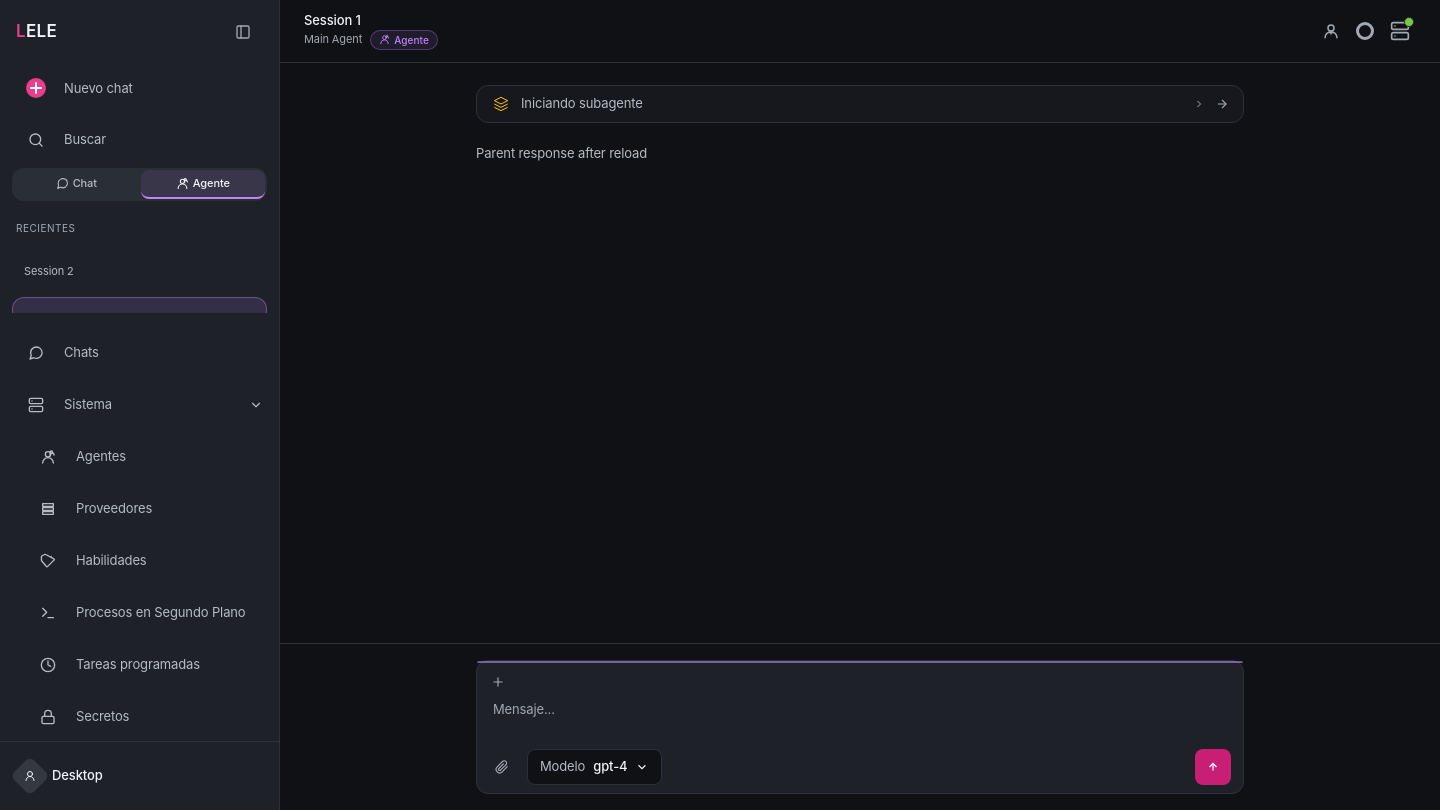
Test: Routing › restores spawn link from history after reloading parent chat
Click the button named "Abrir chat del subagente" at (1222, 104), box [1213,95,1231,113]
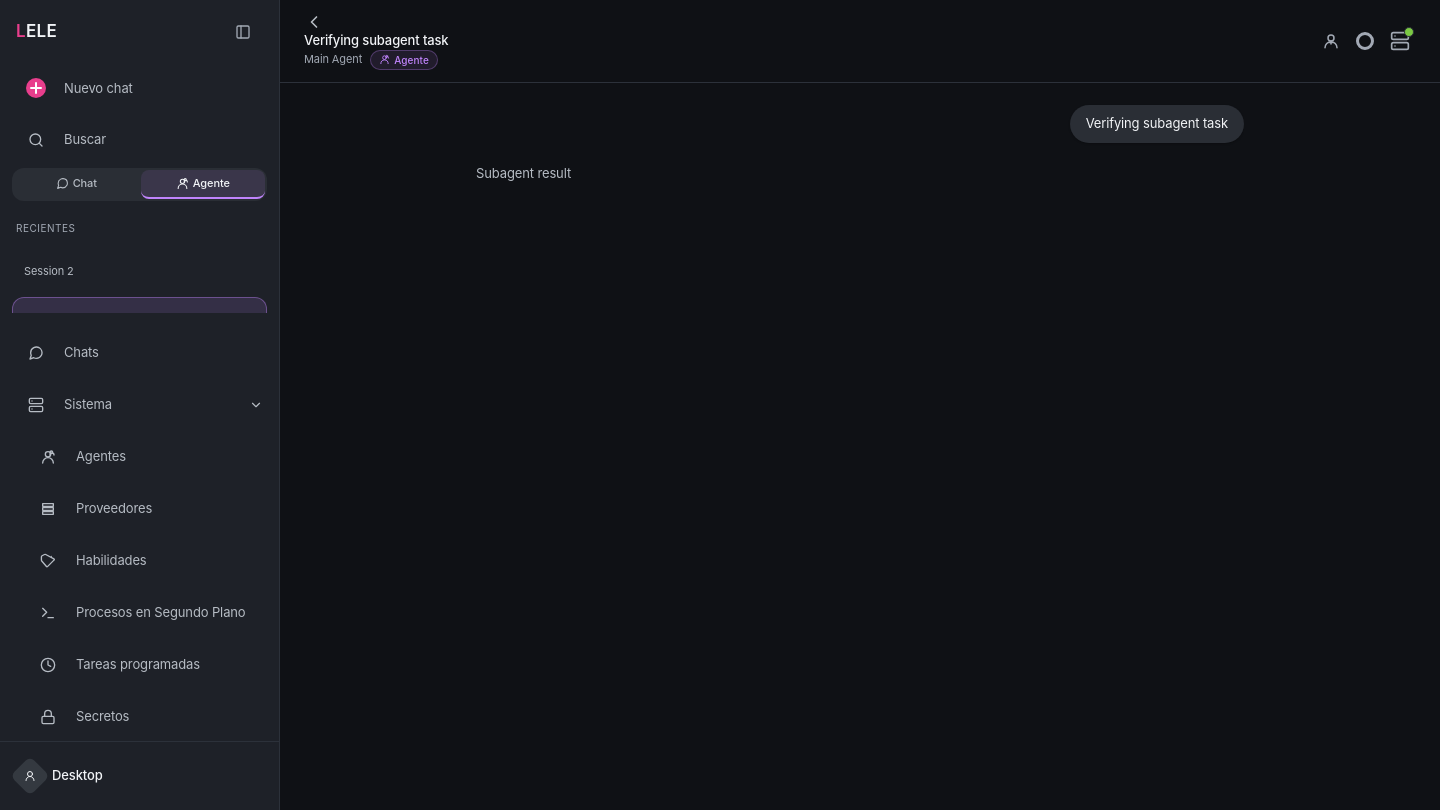
Check: the heading "Verifying subagent task" is shown, box [304,32,448,50]
